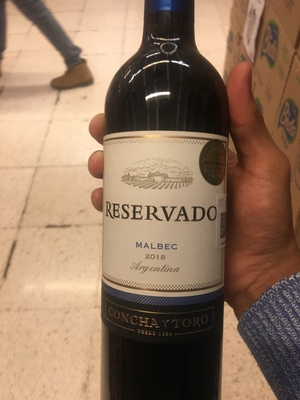reservado malbec: (96, 3, 227, 394)
